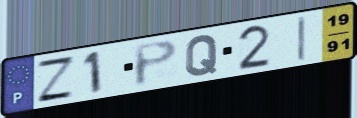1: (81, 48, 104, 96)
2: (235, 22, 273, 74)
I: (296, 14, 309, 64)
P: (131, 38, 180, 89)
Q: (183, 33, 220, 78)
Z: (34, 55, 79, 105)
